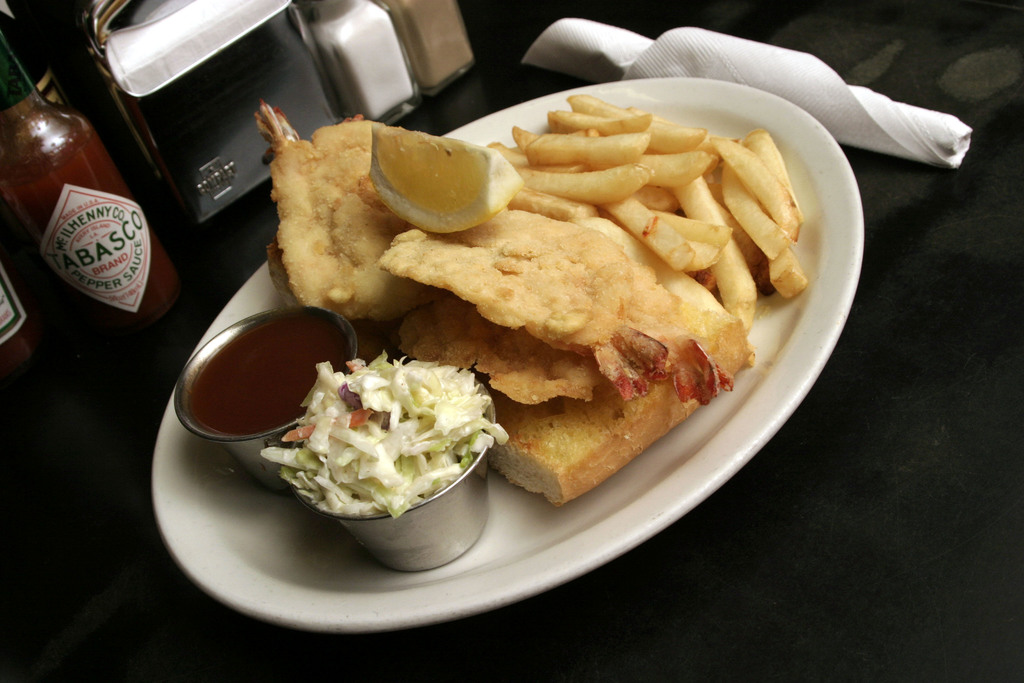French fries: (485, 78, 837, 351)
